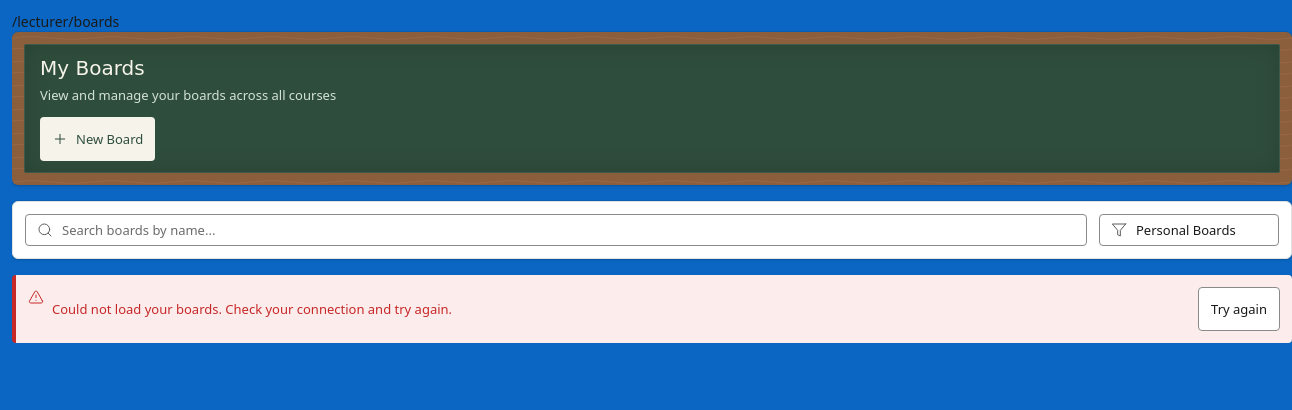
it: LecturerBoardsPage › a failed load shows an alert instead of the empty note, and Try again reloads
Expected: the message shows "Could not load your boards.", 52,300 -> 452,318
Click the button "Try again". click: (1239, 309)
box: 1198,287 -> 1280,331
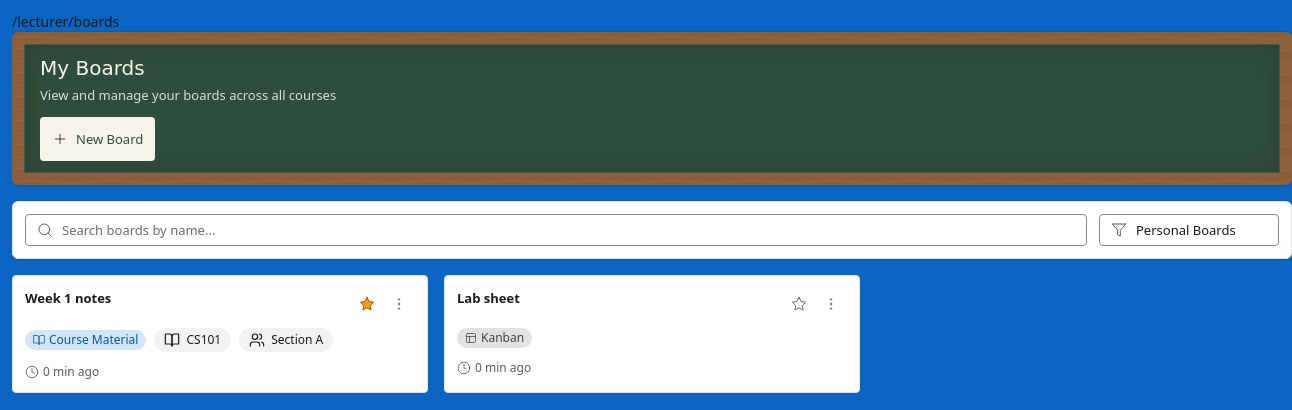
Now the button "Week 1 notes" is shown, box 25,288 -> 111,308
Now the message "Could not load your boards. Check your connection and try again. Try again" is gone
